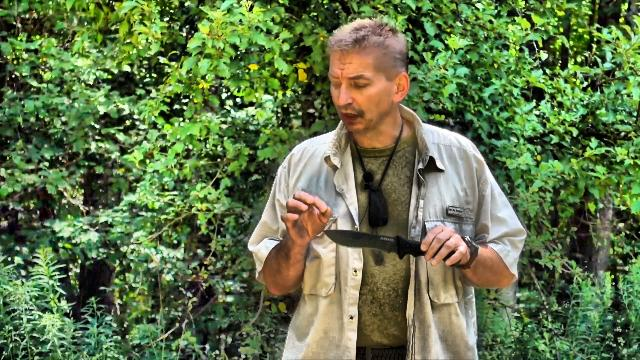knife: (322, 227, 458, 267)
